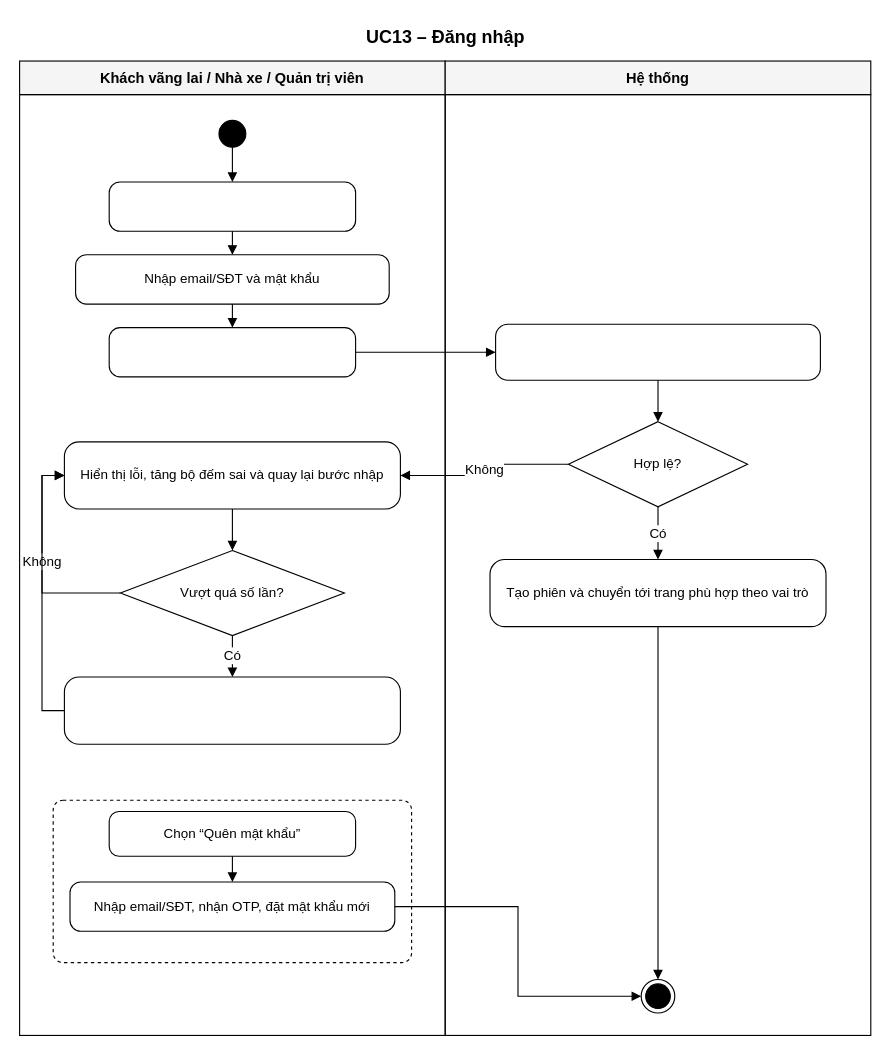
Some shapes in this 890 by 1055 pixel diagram are drawn without their labels. The centre of each missing label's shape, as x and y in pixels:
"Chọn “Đăng nhập”" belongs at pixel 232 206.
"Kiểm tra thông tin đăng nhập" belongs at pixel 657 351.
"Nhấn “Đăng nhập”" belongs at pixel 232 351.
"Tạm khóa đăng nhập, hiển thị thời gian chờ" belongs at pixel 231 710.
